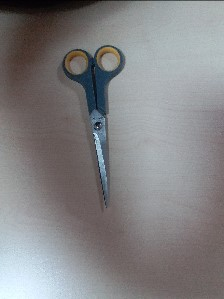scissors: (58, 41, 124, 208)
